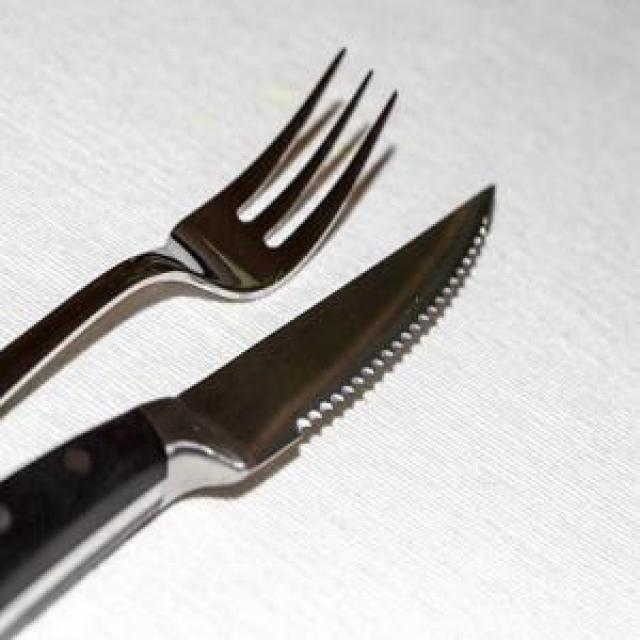knife: (0, 179, 499, 638)
